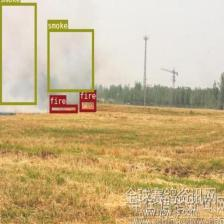fire: (49, 104, 77, 113), (79, 99, 96, 111)
smoke: (0, 3, 36, 104), (47, 28, 93, 92)
